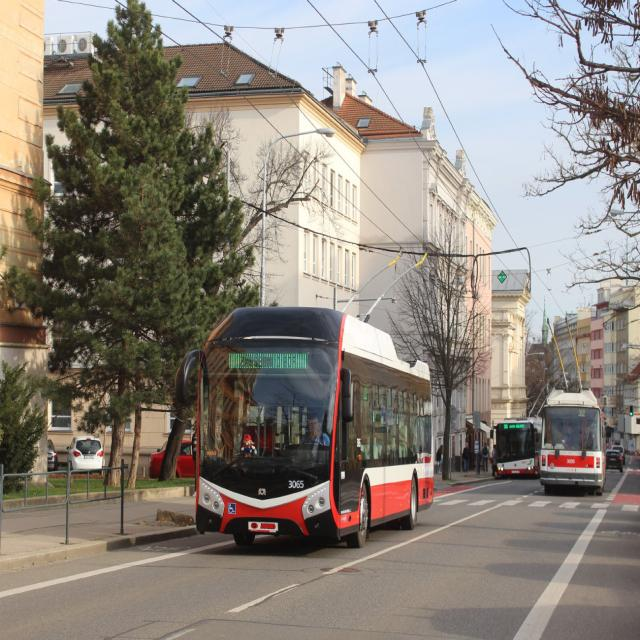Bus: (175, 307, 435, 548), (541, 390, 608, 497)
Tree: (6, 1, 257, 467)
